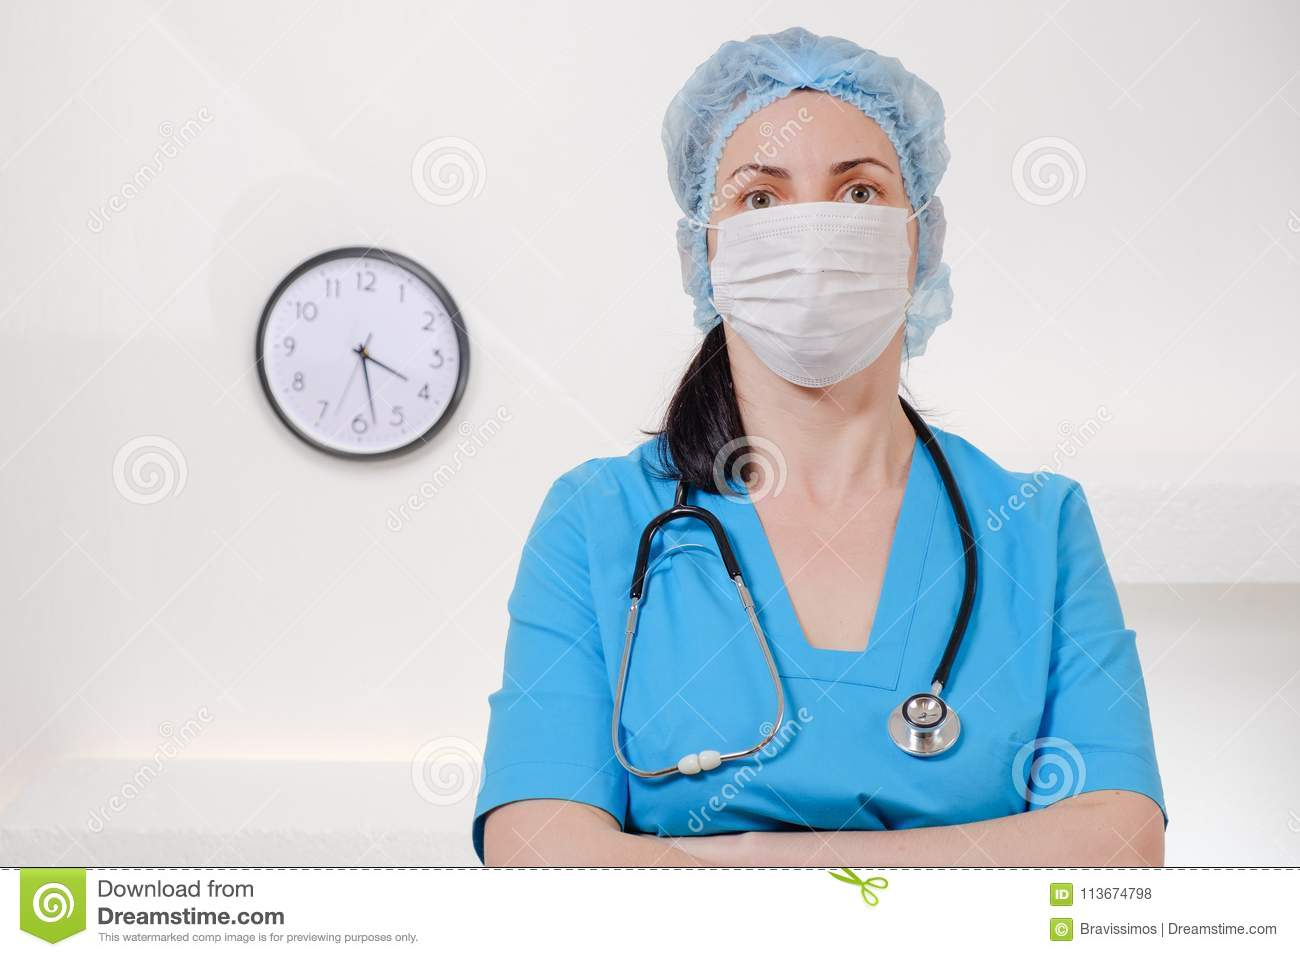mask: (713, 198, 914, 401)
